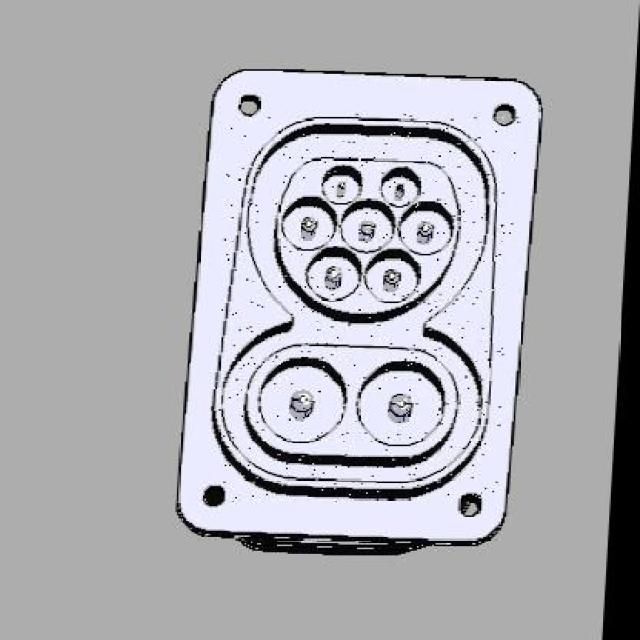CCS2: (182, 121, 546, 547)
